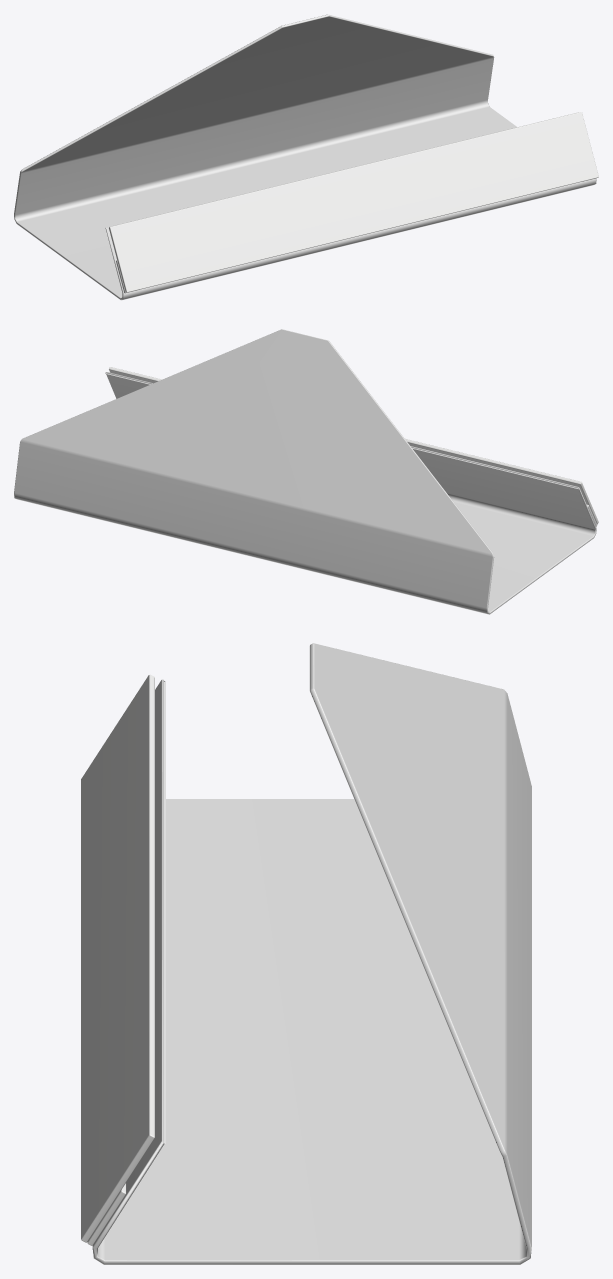
The model's file is Jiazi.fbx.
The picture shows the model from 3 angles, top to bottom: view 1: azimuth 30°, elevation 25°; view 2: azimuth 150°, elevation 25°; view 3: azimuth 270°, elevation 25°; orthographic projection. The views are drawn at different scales.
Visible parts, largest first — view 1: jiaZi_Mesh; view 2: jiaZi_Mesh; view 3: jiaZi_Mesh.
Part boxes in pixels (box(x1,y1,x2,y2)): jiaZi_Mesh: box(14, 14, 598, 300); jiaZi_Mesh: box(14, 329, 598, 614); jiaZi_Mesh: box(81, 643, 531, 1264).
Size of the model in its own units: 12 by 4.46 by 4.95.
